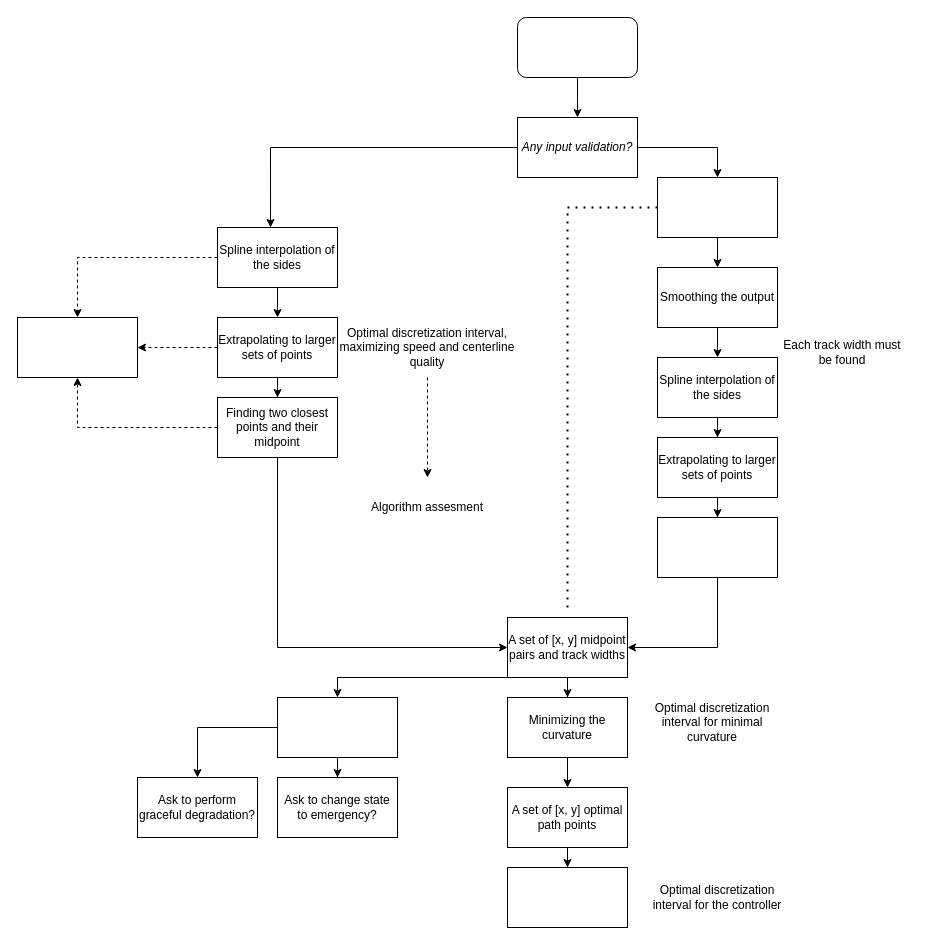
The diagram is 925 pixels wide and 945 high, and some of its shapes have lost their labels. The box of each missing label's shape, as (x1, y1, x2, y2) in pixels:
Finding the closest point on each side: (656, 516, 778, 578)
Invalid input, bug, or any other reason to mistrust the result: (276, 696, 398, 758)
RRT* with cost: (656, 176, 778, 238)
Save all data for the later debugging: (16, 316, 138, 378)
To controller: (506, 866, 628, 928)
Two sets of [x, y] pairs: (516, 16, 638, 78)
